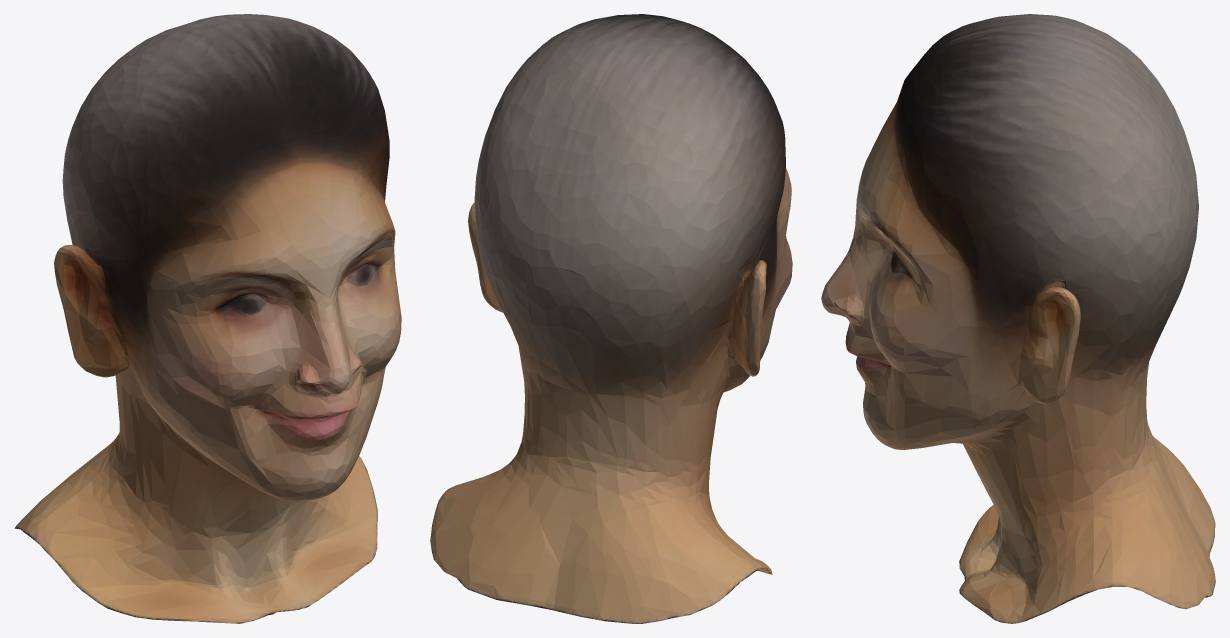
File: head-ponytail.glb
3 renders of one model, left to right at view 1: azimuth 30°, elevation 25°; view 2: azimuth 150°, elevation 25°; view 3: azimuth 270°, elevation 25°, orthographic. The views are drawn at different scales.
Visible parts, largest first — view 1: geometry_0; view 2: geometry_0; view 3: geometry_0.
Boxes of the visible parts, x1=… form: geometry_0: x1=14, y1=14, x2=401, y2=623; geometry_0: x1=430, y1=14, x2=792, y2=623; geometry_0: x1=821, y1=14, x2=1215, y2=623.
Size of the model in its own units: 0.6049 by 0.9998 by 0.6518.
1 material, 1 textured.
